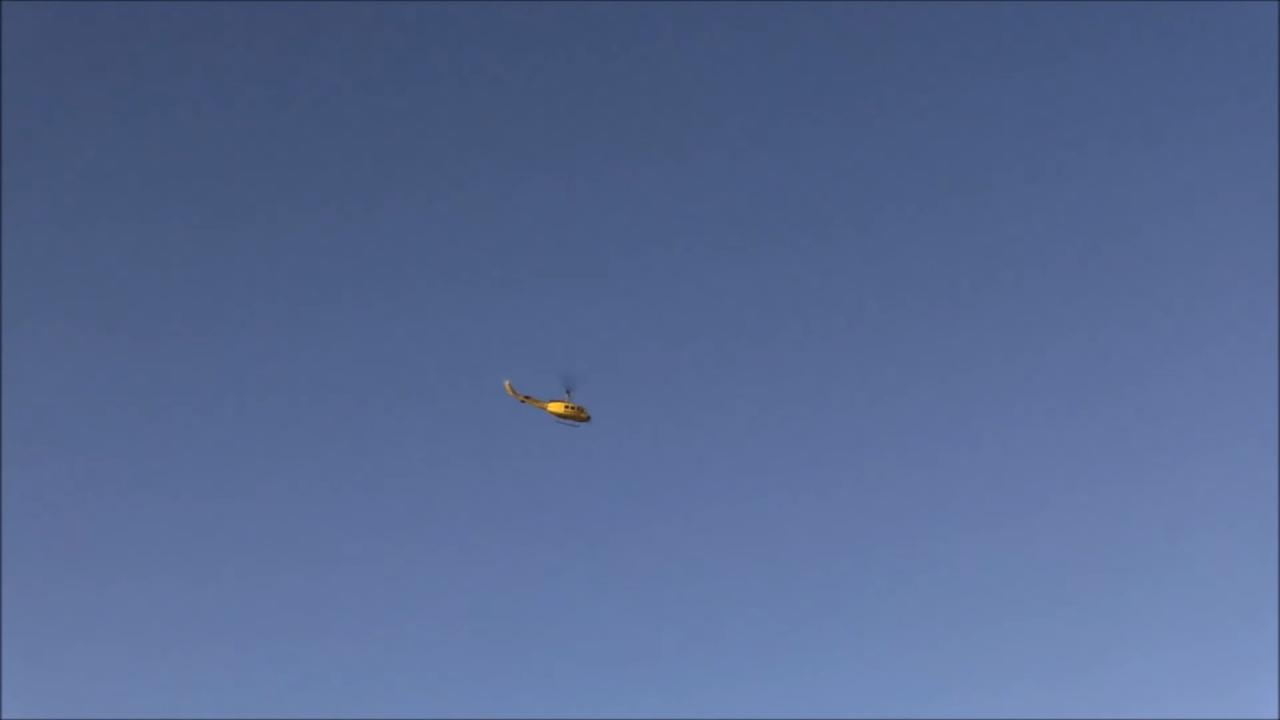Helicopter: (492, 370, 606, 434)
